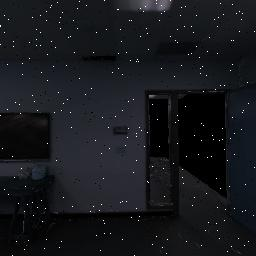door-frame: (143, 85, 243, 225)
